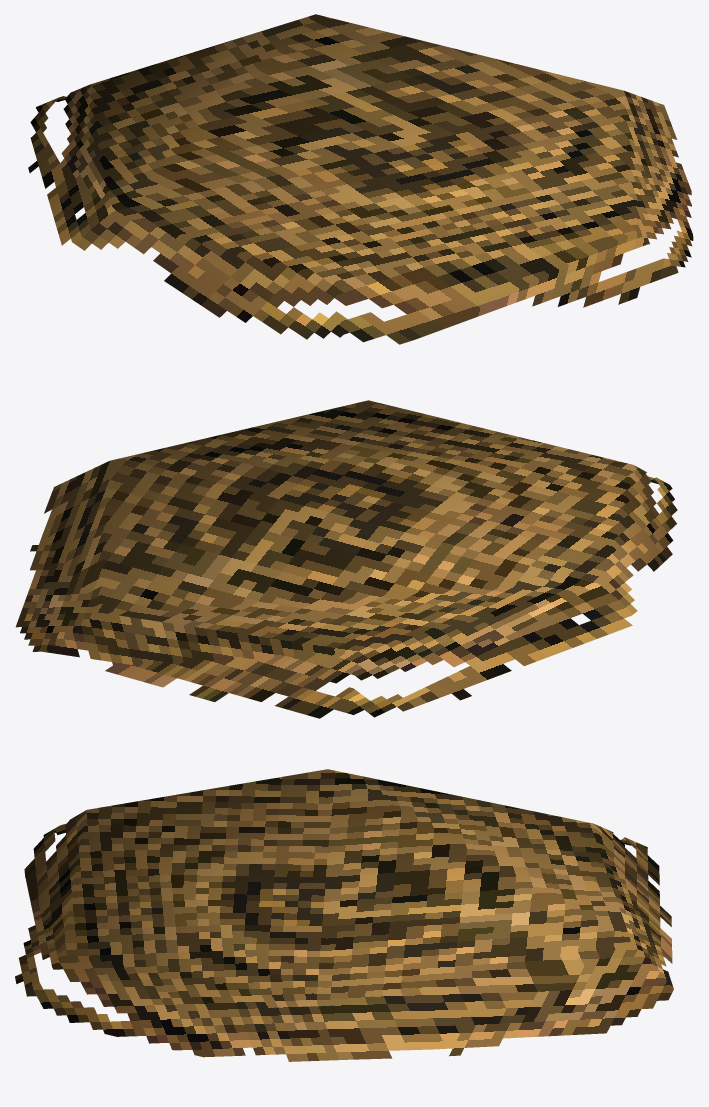
Rendered from cavekoboldropecoil.glb.
The picture shows the model from 3 angles, top to bottom: view 1: azimuth 30°, elevation 25°; view 2: azimuth 150°, elevation 25°; view 3: azimuth 270°, elevation 25°; orthographic projection. The views are drawn at different scales.
Size of the model in its own units: 1.26 by 0.1022 by 1.17.
1 material, 1 textured.
